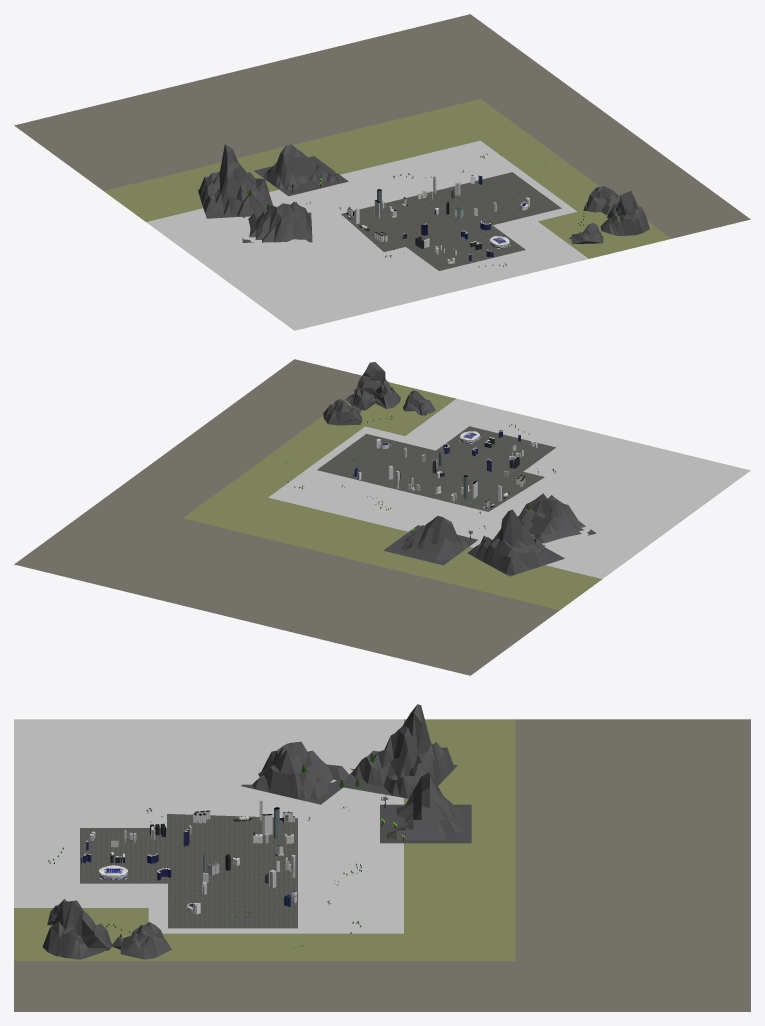
File: cidade.obj
The picture shows the model from 3 angles, top to bottom: view 1: azimuth 30°, elevation 25°; view 2: azimuth 150°, elevation 25°; view 3: azimuth 270°, elevation 25°; orthographic projection. The views are drawn at different scales.
Parts seen in each view (by area): view 1: Mesh1511 Model, Mesh1 Group2 Group1 Model, Mesh211 Group176 Group175 skpD7A8_1 Model, Mesh244 Group177 Group175 skpD7A8_1 Model, Mesh279 Group178 Group175 skpD7A8_1 Model, Mesh199 Group173 skpD7A8_1 Model, Mesh210 Group174 skpD7A8_1 Model; view 2: Mesh1511 Model, Mesh1 Group2 Group1 Model, Mesh211 Group176 Group175 skpD7A8_1 Model, Mesh244 Group177 Group175 skpD7A8_1 Model, Mesh279 Group178 Group175 skpD7A8_1 Model, Mesh199 Group173 skpD7A8_1 Model, Mesh210 Group174 skpD7A8_1 Model; view 3: Mesh1511 Model, Mesh1 Group2 Group1 Model, Mesh211 Group176 Group175 skpD7A8_1 Model, Mesh244 Group177 Group175 skpD7A8_1 Model, Mesh279 Group178 Group175 skpD7A8_1 Model, Mesh199 Group173 skpD7A8_1 Model, Mesh210 Group174 skpD7A8_1 Model.
Part boxes in pixels (left/top/right/bottom): Mesh1511 Model: left=14, top=14, right=750, bottom=330; Mesh1 Group2 Group1 Model: left=341, top=172, right=561, bottom=270; Mesh211 Group176 Group175 skpD7A8_1 Model: left=197, top=144, right=272, bottom=218; Mesh244 Group177 Group175 skpD7A8_1 Model: left=254, top=144, right=348, bottom=196; Mesh279 Group178 Group175 skpD7A8_1 Model: left=242, top=201, right=312, bottom=242; Mesh199 Group173 skpD7A8_1 Model: left=600, top=191, right=649, bottom=235; Mesh210 Group174 skpD7A8_1 Model: left=583, top=186, right=619, bottom=215; Mesh1511 Model: left=14, top=359, right=750, bottom=675; Mesh1 Group2 Group1 Model: left=317, top=426, right=555, bottom=511; Mesh211 Group176 Group175 skpD7A8_1 Model: left=467, top=509, right=564, bottom=576; Mesh244 Group177 Group175 skpD7A8_1 Model: left=383, top=516, right=477, bottom=565; Mesh279 Group178 Group175 skpD7A8_1 Model: left=501, top=493, right=596, bottom=545; Mesh199 Group173 skpD7A8_1 Model: left=345, top=362, right=400, bottom=410; Mesh210 Group174 skpD7A8_1 Model: left=323, top=399, right=362, bottom=425; Mesh1511 Model: left=14, top=719, right=750, bottom=1011; Mesh1 Group2 Group1 Model: left=80, top=814, right=297, bottom=928; Mesh211 Group176 Group175 skpD7A8_1 Model: left=343, top=704, right=457, bottom=798; Mesh244 Group177 Group175 skpD7A8_1 Model: left=380, top=772, right=471, bottom=843; Mesh279 Group178 Group175 skpD7A8_1 Model: left=241, top=741, right=354, bottom=804; Mesh199 Group173 skpD7A8_1 Model: left=42, top=900, right=111, bottom=959; Mesh210 Group174 skpD7A8_1 Model: left=111, top=922, right=171, bottom=959.
Bounding box in the file's own units: 5426 × 623 × 5777.
